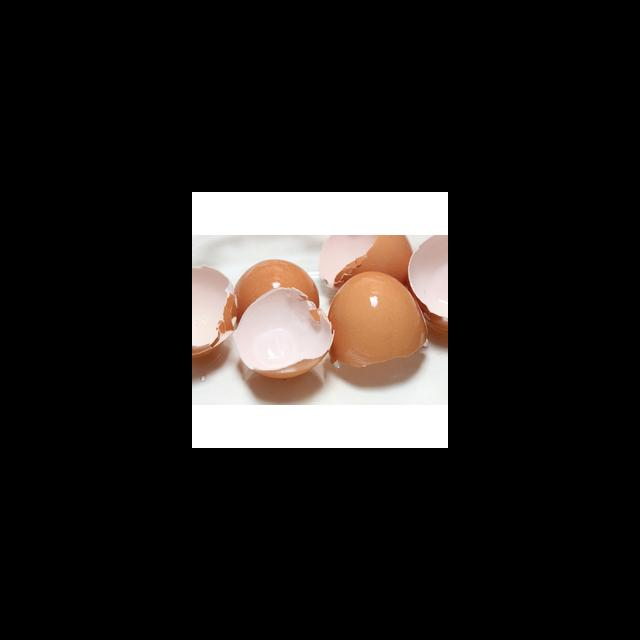food_waste: (225, 268, 428, 391)
